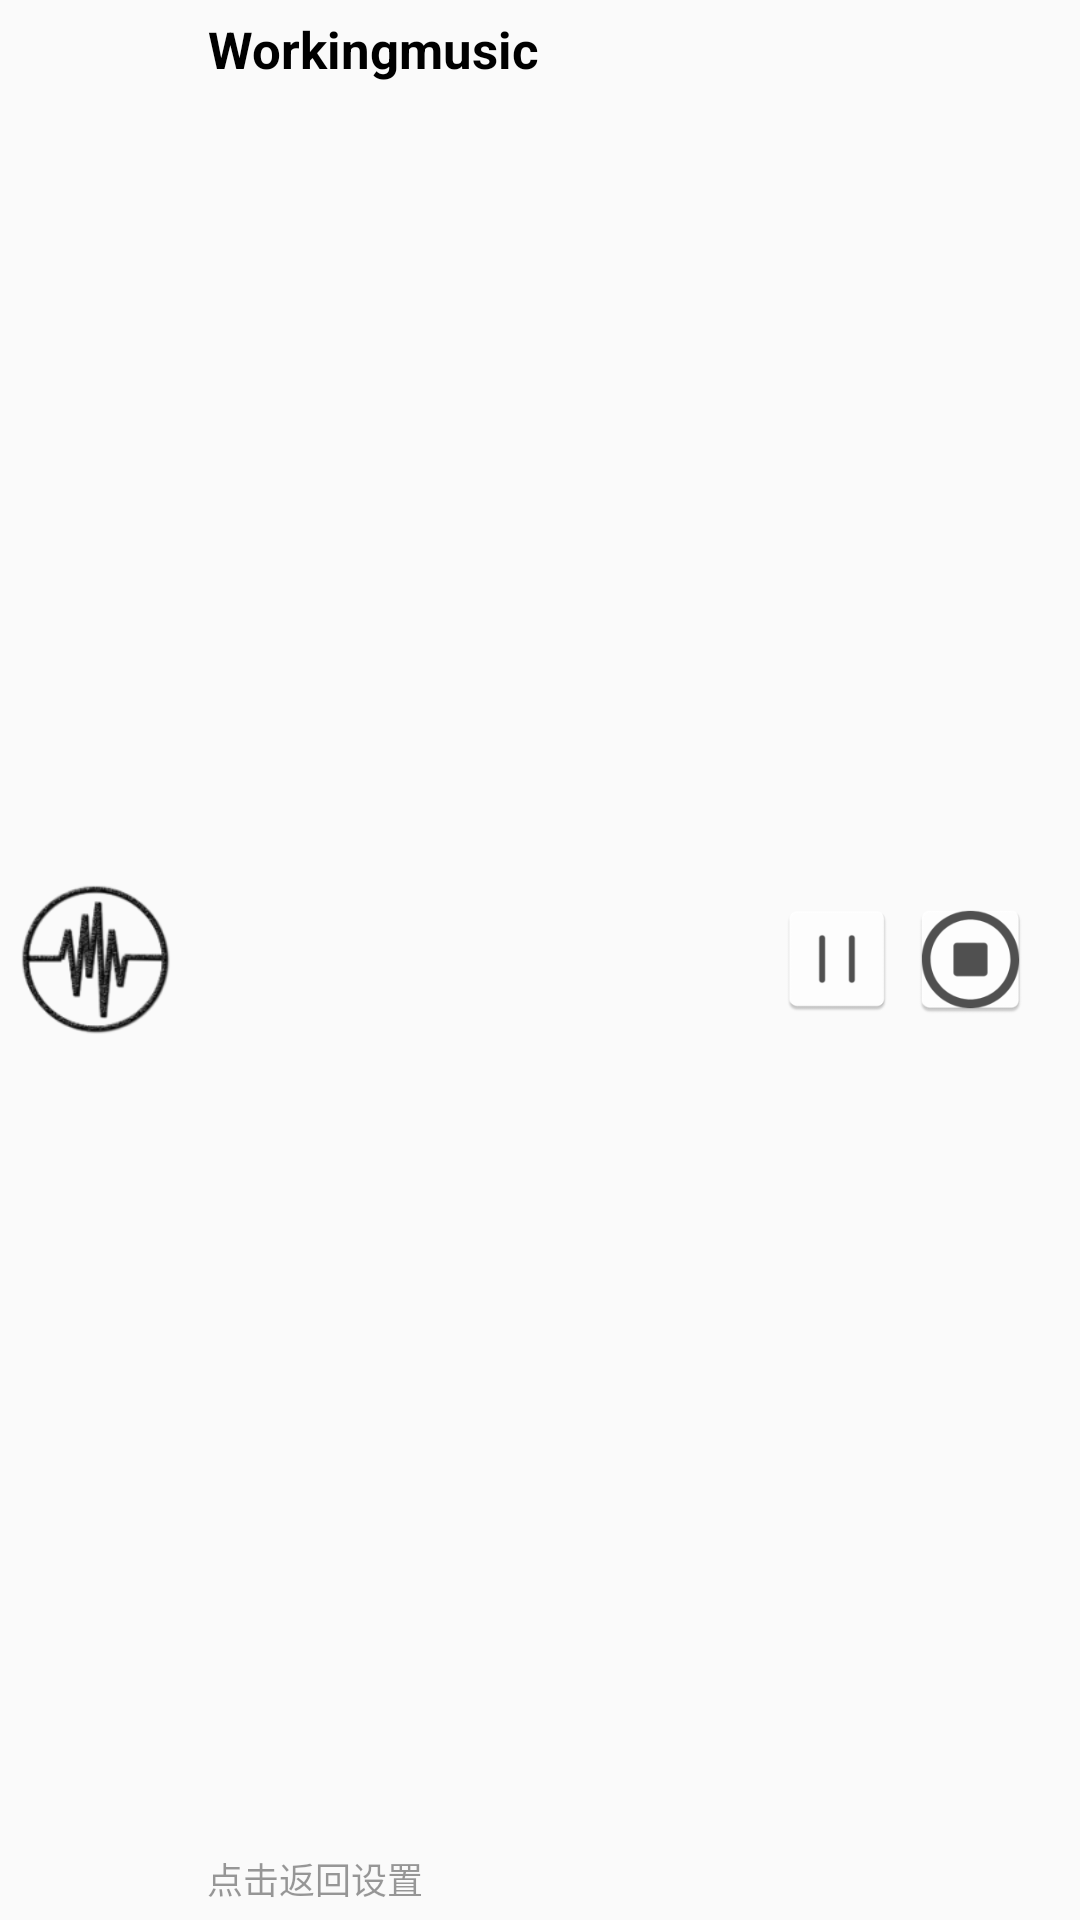

Screen size 1080 × 1920. Icon name, then its box in pixels as (x1, y1, x2, y2):
notification pause: (790, 920, 885, 1009)
notification stop: (921, 911, 1020, 1011)
